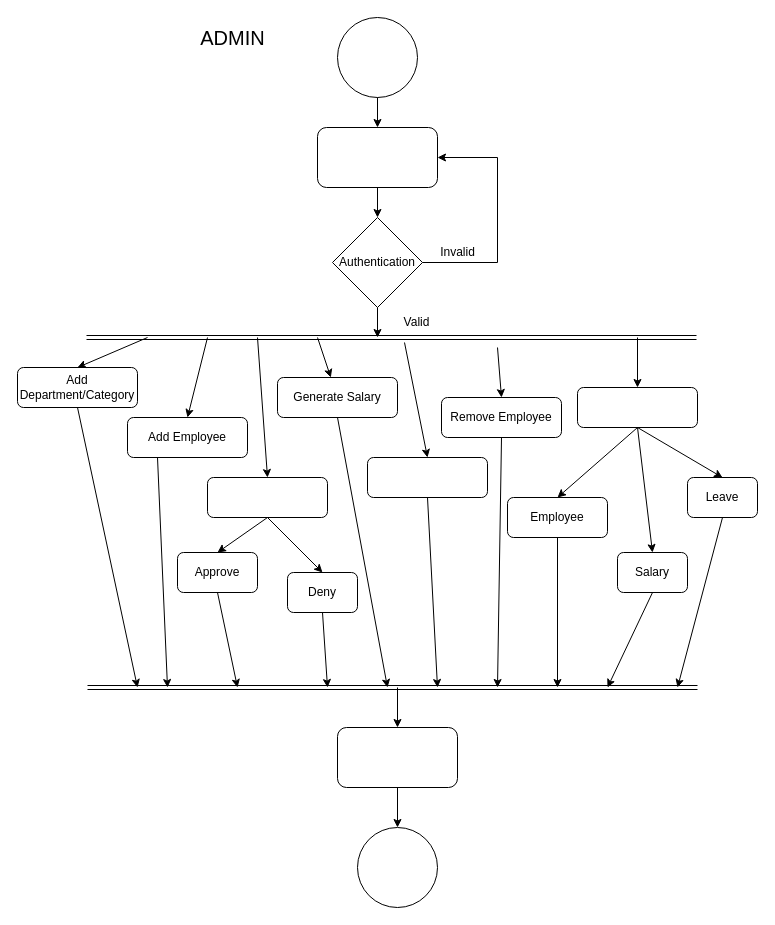
Some shapes in this 775 by 925 pixel diagram are drawn without their labels. Here are the shapes that lost their labels. From the top down, the centre of each, then its label:
(x=377, y=157): Admin Login
(x=637, y=407): Reports
(x=267, y=497): Manage Leave
(x=427, y=477): Update Employee
(x=397, y=757): LogOut
